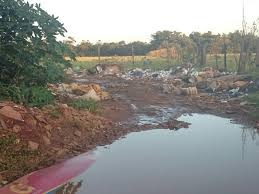rubble: (76, 59, 228, 81), (46, 83, 109, 104)
